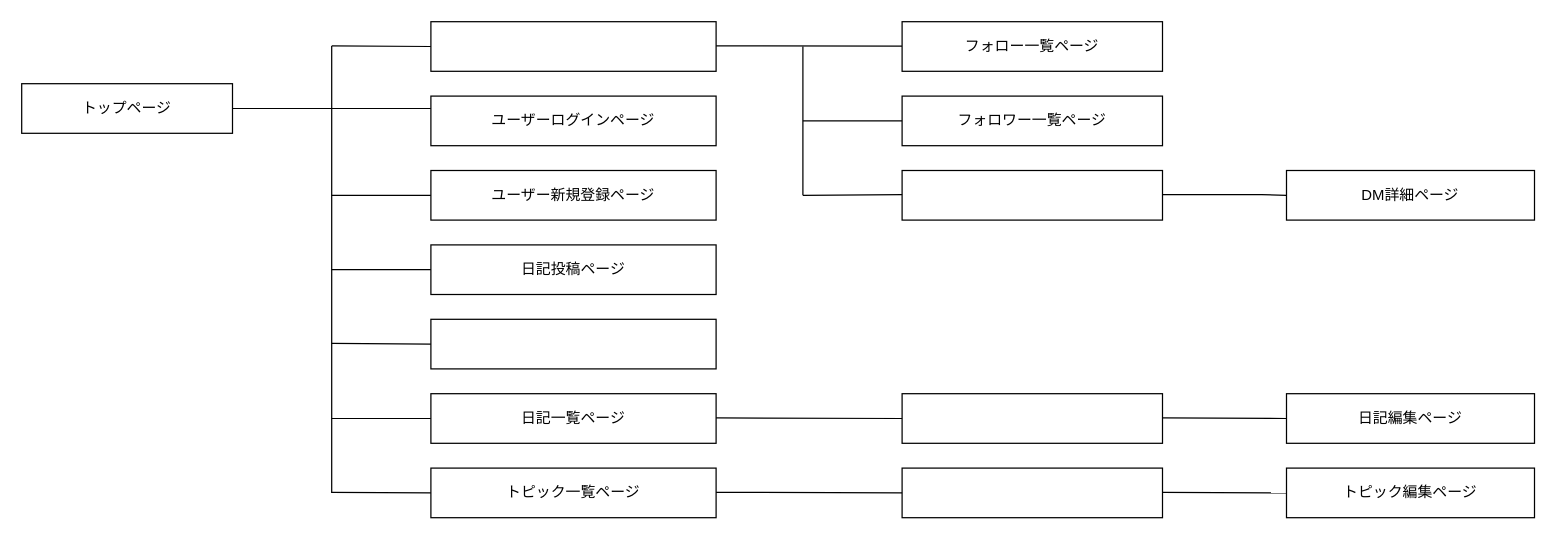
Some shapes in this 1556 by 539 pixel diagram are drawn without their labels. Each missing label, with the box of its shape:
DM一覧ページ: (901, 169, 1162, 220)
トピック作成ページ: (430, 318, 716, 369)
トピック詳細ページ: (901, 467, 1162, 518)
ユーザーマイページ: (430, 20, 716, 71)
日記詳細ページ: (901, 392, 1162, 443)
